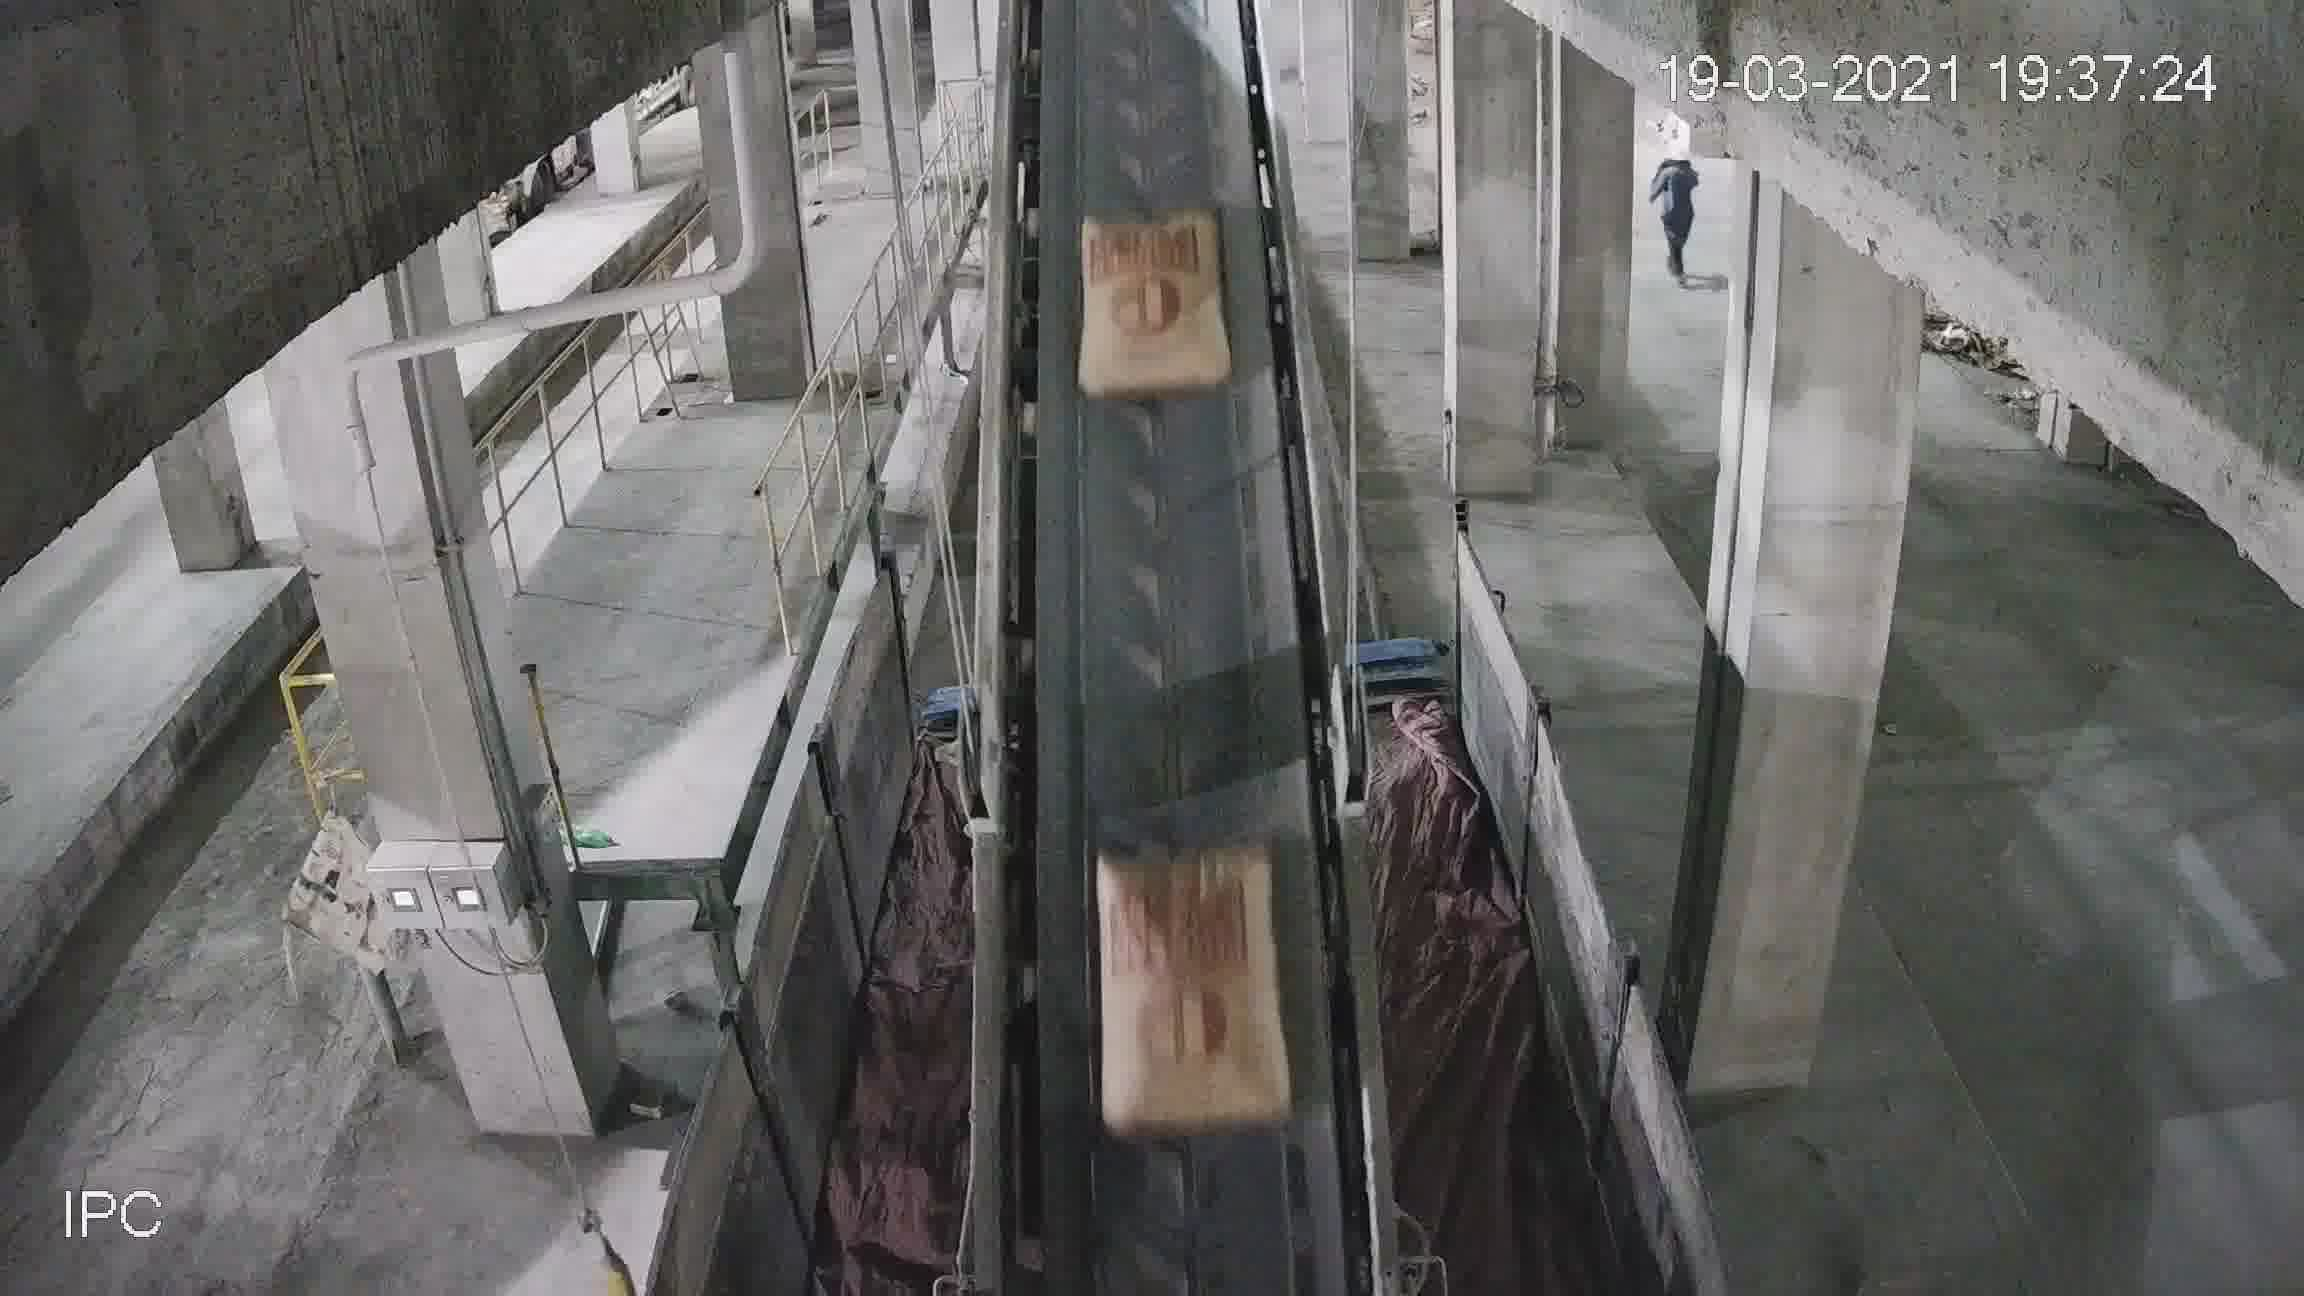bag: (1093, 862, 1282, 1125), (1079, 214, 1225, 399)
belt: (989, 19, 1374, 1166)
